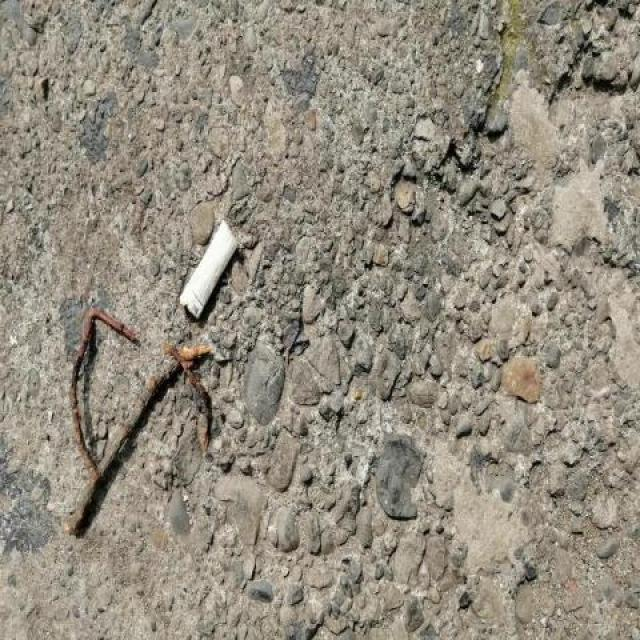non-organic waste: (175, 215, 242, 328)
